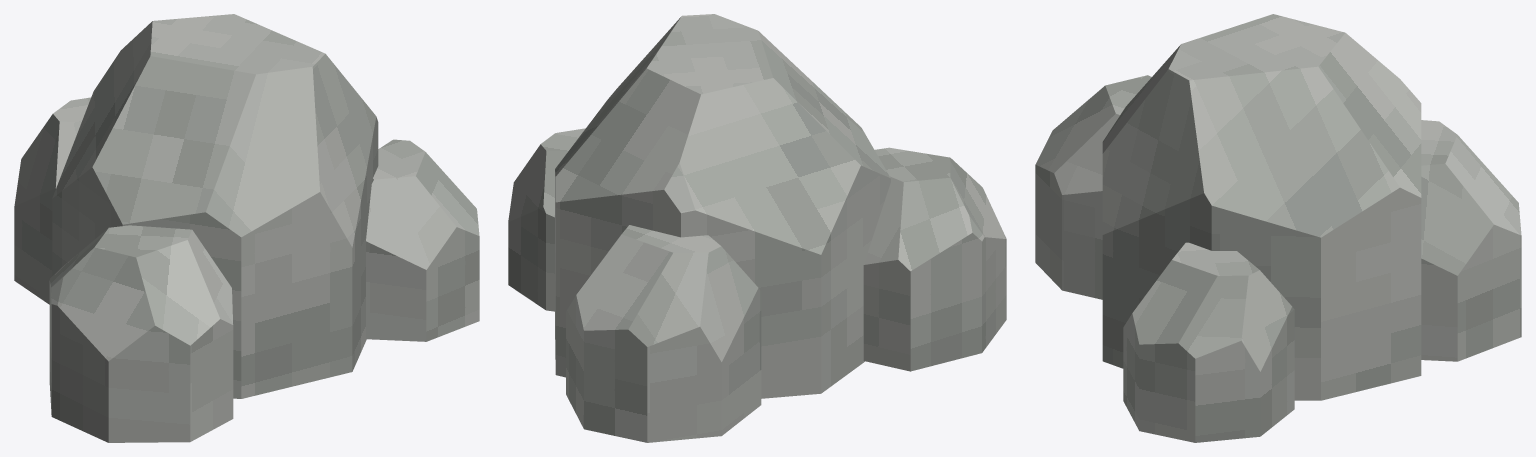
File: Stonefbx.fbx
3 views of the same model, side by side, from view 1: azimuth 30°, elevation 25°; view 2: azimuth 150°, elevation 25°; view 3: azimuth 270°, elevation 25° (orthographic). The views are drawn at different scales.
Visible parts, largest first — view 1: Cube; view 2: Cube; view 3: Cube.
Part boxes in pixels (x1=…): Cube: x1=14, y1=14, x2=479, y2=442; Cube: x1=508, y1=14, x2=1006, y2=442; Cube: x1=1035, y1=14, x2=1521, y2=442.
Bounding box in the file's own units: 163 × 100 × 153.
1 material, 1 textured.
